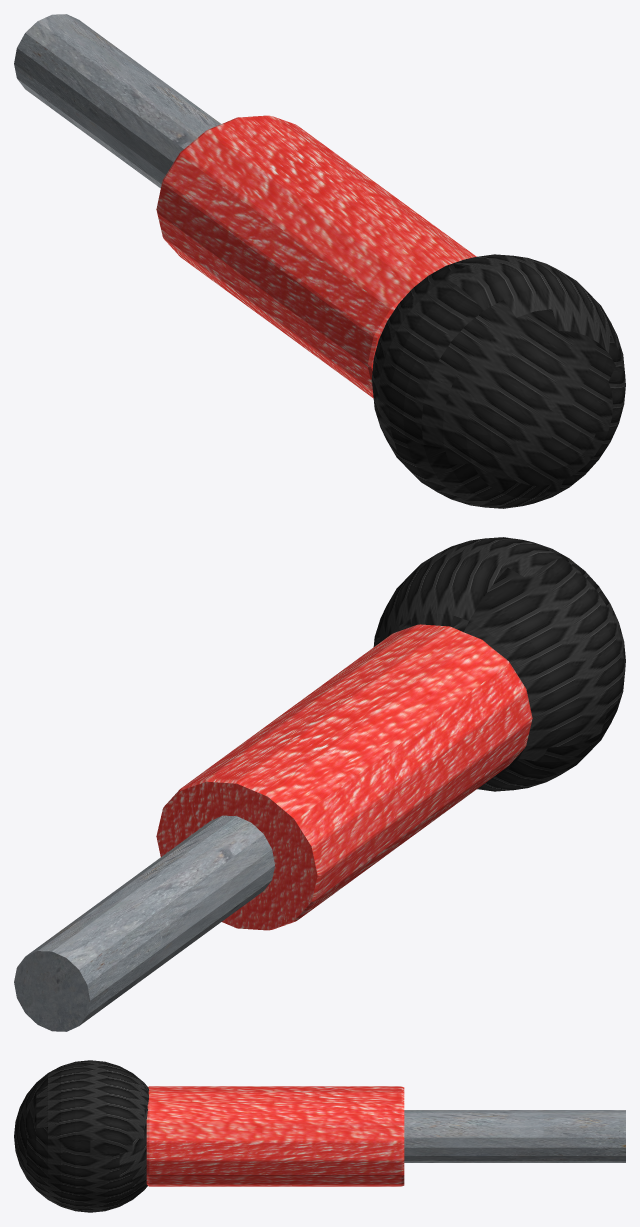
File: palanca.obj
3 views of the same model, one above another, from view 1: azimuth 30°, elevation 25°; view 2: azimuth 150°, elevation 25°; view 3: azimuth 270°, elevation 25° (orthographic). The views are drawn at different scales.
Visible parts, largest first — view 1: Sphere, Cylinder, Cylinder.001; view 2: Cylinder, Sphere, Cylinder.001; view 3: Cylinder, Sphere, Cylinder.001.
Part boxes in pixels (left/top/right/bottom): Sphere: left=372, top=254, right=625, bottom=508; Cylinder: left=156, top=115, right=476, bottom=398; Cylinder.001: left=14, top=14, right=220, bottom=188; Cylinder: left=156, top=624, right=532, bottom=930; Sphere: left=373, top=537, right=625, bottom=791; Cylinder.001: left=14, top=815, right=274, bottom=1031; Cylinder: left=146, top=1086, right=404, bottom=1186; Sphere: left=14, top=1060, right=148, bottom=1212; Cylinder.001: left=404, top=1110, right=625, bottom=1162.
Size of the model in its own units: 3.24 by 3.24 by 12.98.
Materials: 3 (3 with a texture image).
